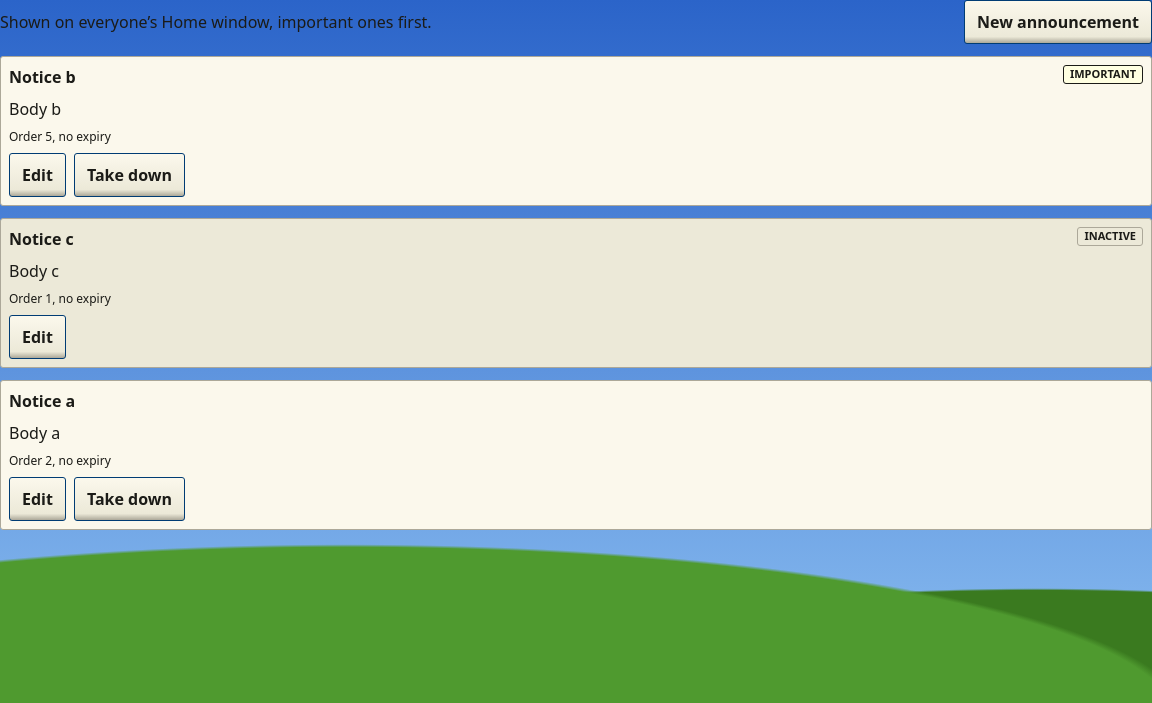
Test case: Admin: Announcements › posts a new announcement
The width and height of the screenshot is (1152, 703).
Click the button "New announcement": (1058, 22) [964,0,1151,44]
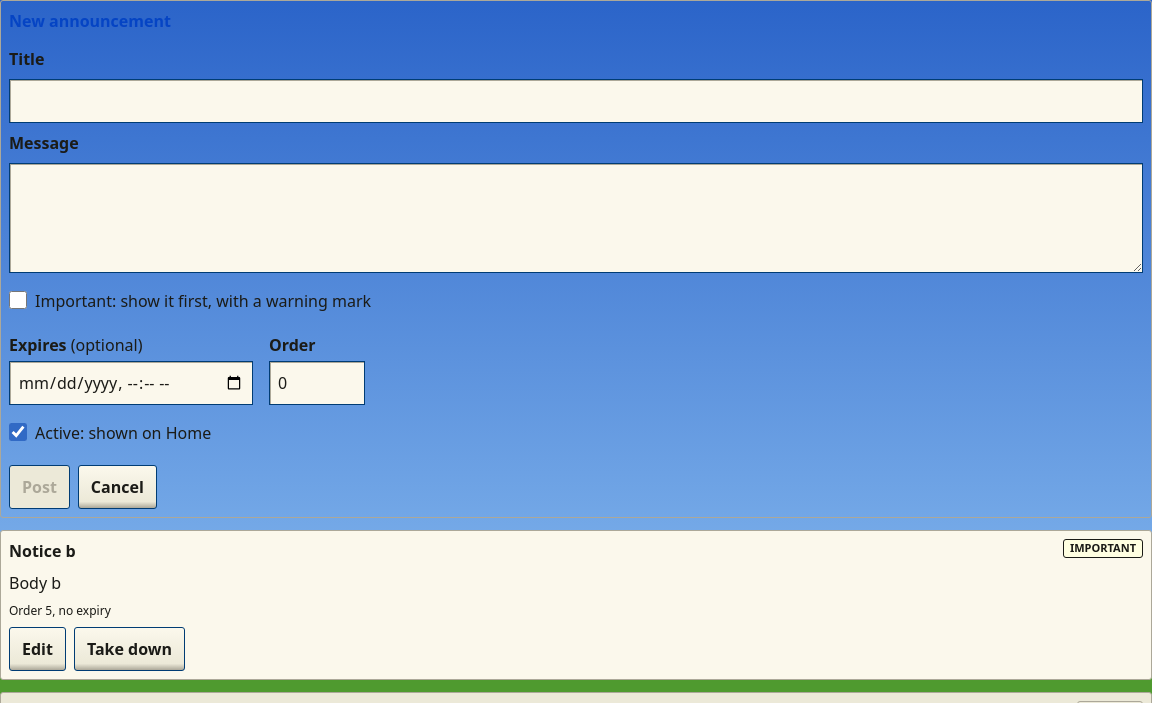
Now the button "Post" is disabled, box [9,465,70,509]
In the field labelled "Title": (576, 101) [9,79,1143,123], type " Dues "
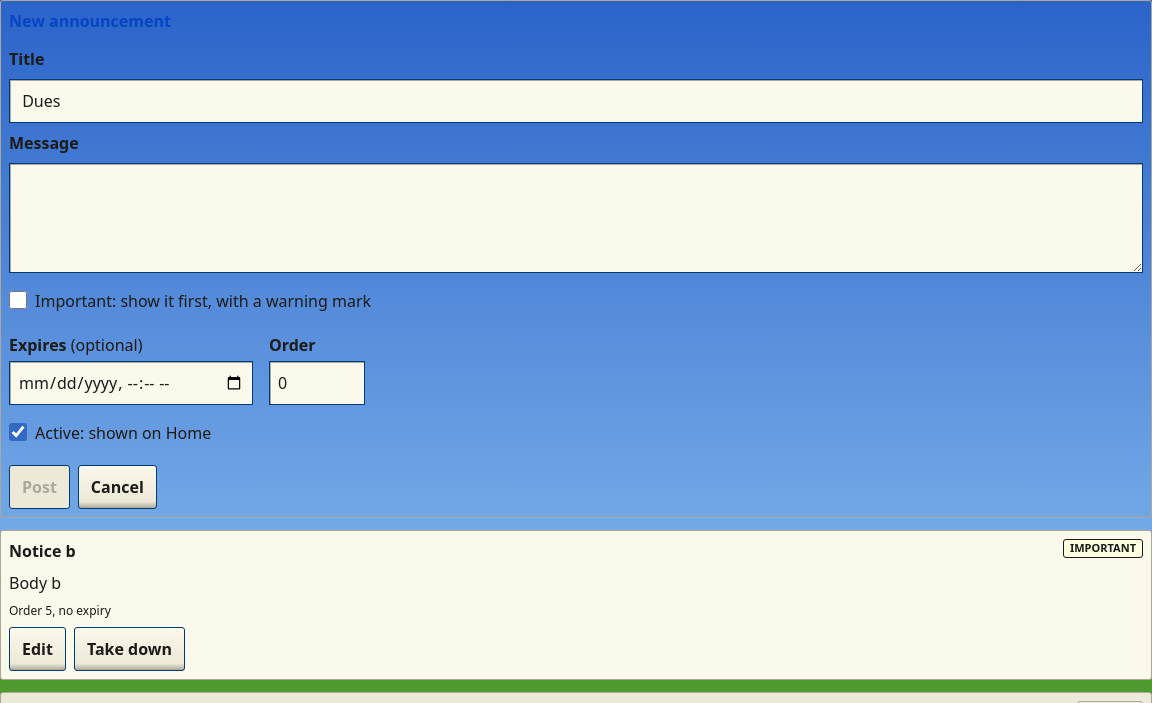
In the text box labelled "Message": (576, 218) [9,163,1143,273], type "Pay up"
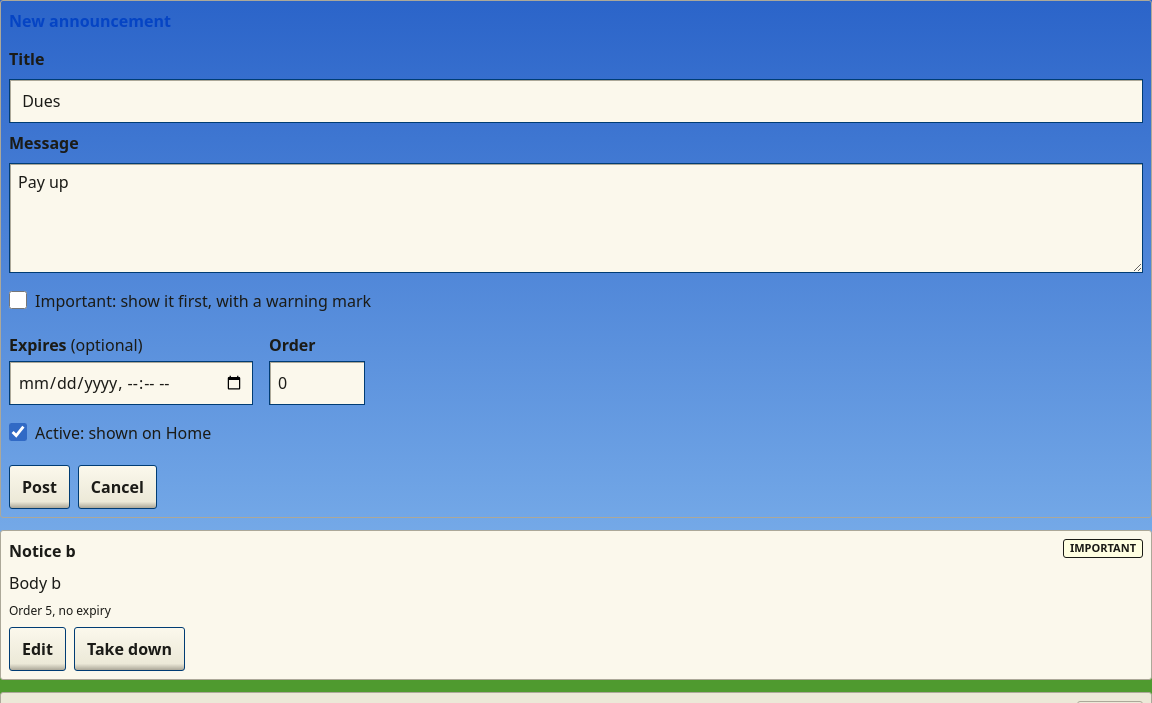
Click the checkbox labelled "Important: show it first, with a warning mark": (18, 300) [9,291,27,309]
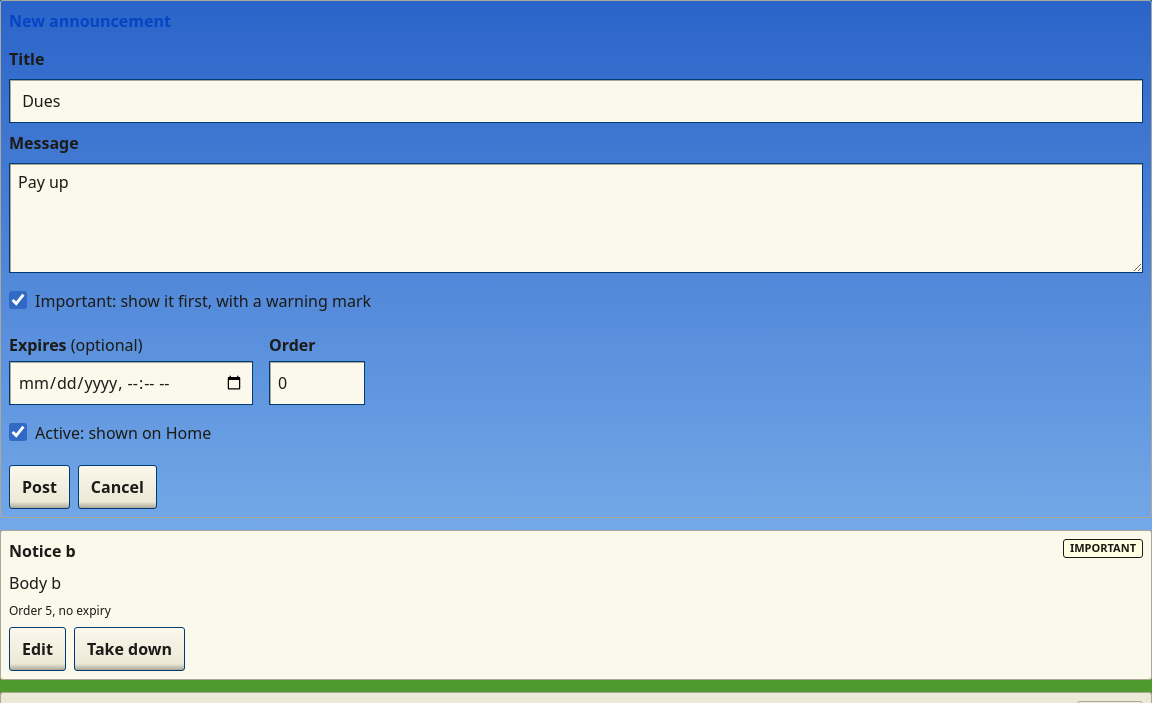
Click the button "Post": (39, 487) [9,465,70,509]
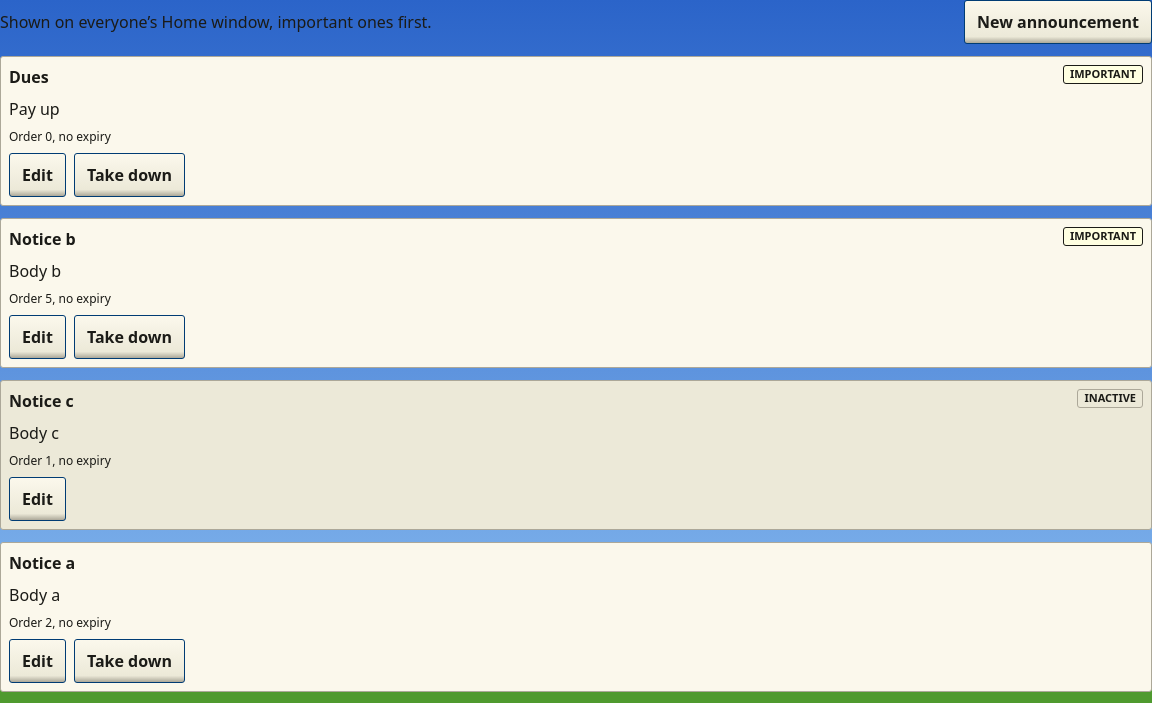
Now the element "Dues" is shown, box [0,56,1151,206]
Now the heading "Dues" is shown, box [9,66,49,88]
